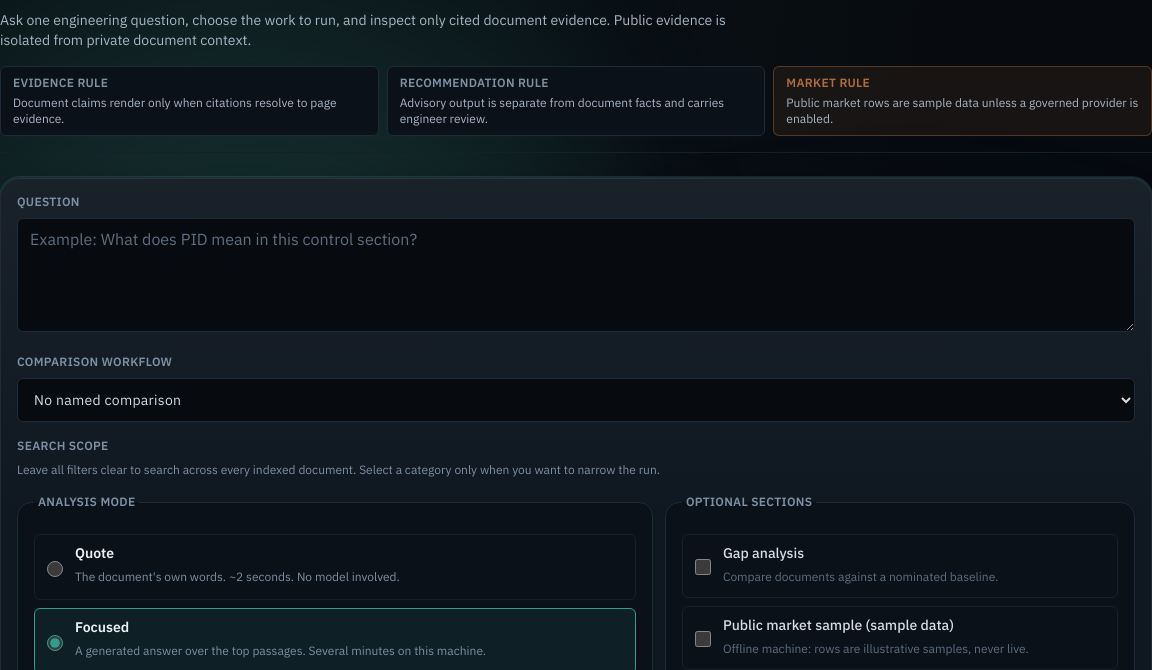
it: removed sentences: the disclosure is never empty › renders NO bullet for an entry with no text, and still counts it
Step 1. Type "submittals" into the text box labelled "Question" → (576, 275), box [17,218,1135,332]
(page scrolled)
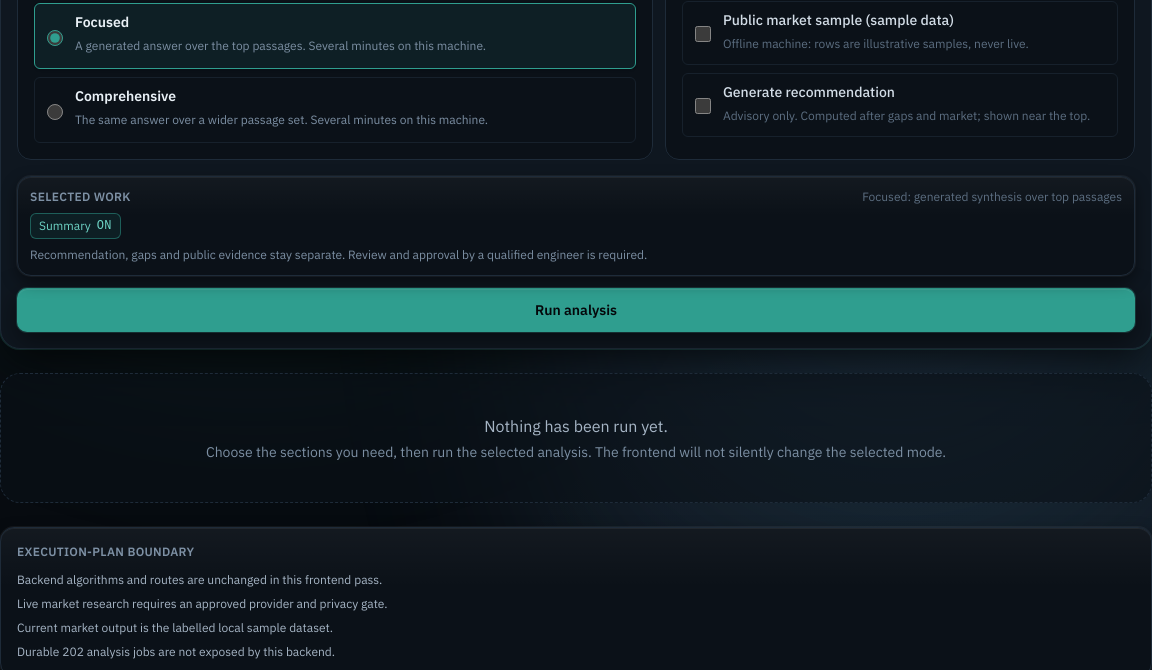
Step 2. Click the button "Run analysis" → (576, 310), box [17,288,1135,332]
(page scrolled)
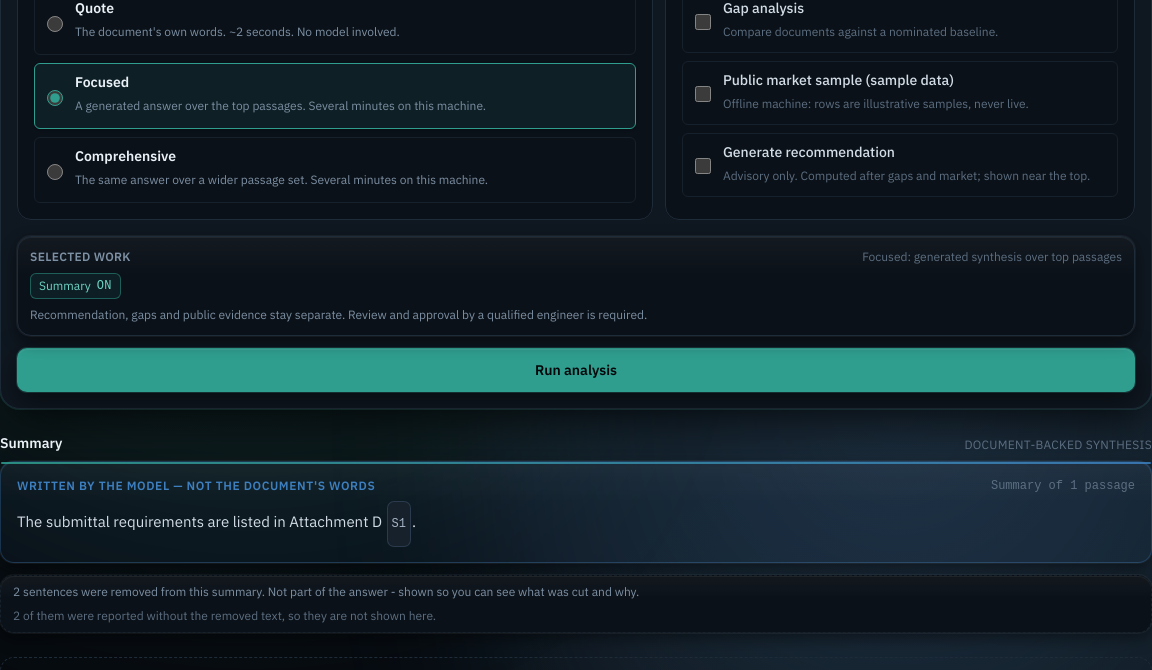
Check: the text "2 sentences were removed from this summary" is shown, box [13,584,639,599]
Check: the text "2 of them were reported without the removed text" is shown, box [13,608,436,623]
